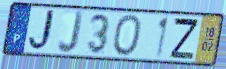1: (155, 14, 173, 61)
3: (86, 12, 112, 55)
J: (56, 9, 86, 56), (27, 9, 59, 53)
O: (111, 13, 143, 58)
Z: (169, 16, 200, 61)
